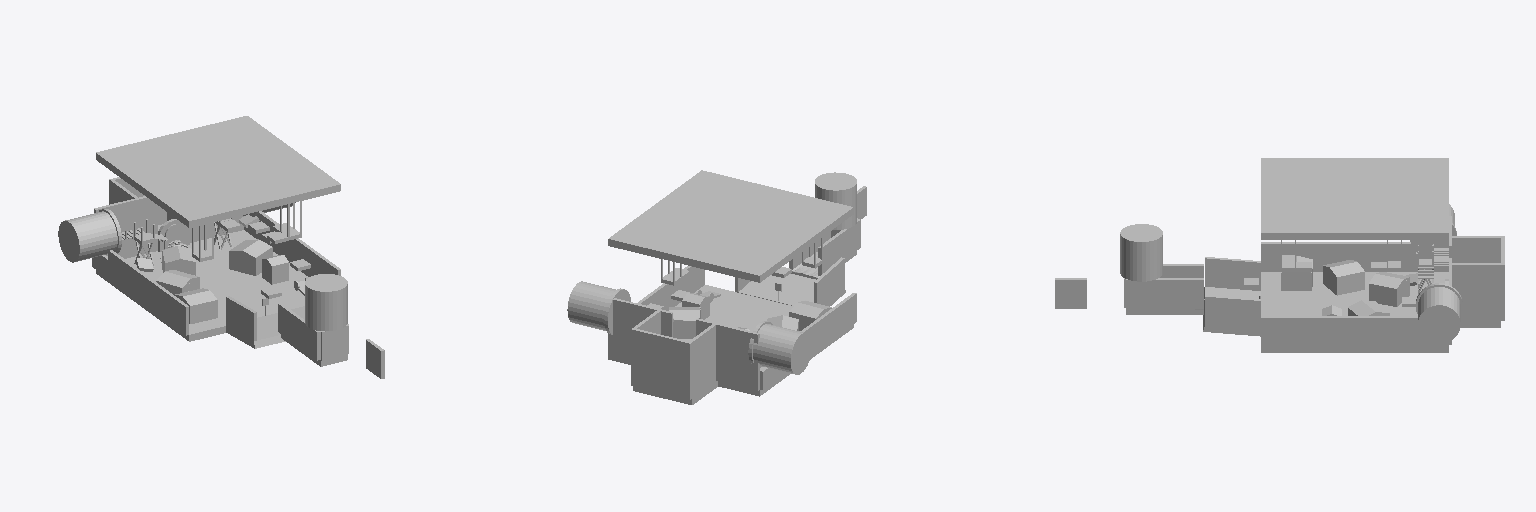
File: Level 1.obj
3 renders of one model, left to right at view 1: azimuth 30°, elevation 25°; view 2: azimuth 150°, elevation 25°; view 3: azimuth 270°, elevation 25°, orthographic.
Visible parts, largest first — view 1: Cube.056, Cube.009, Cube.012, Cylinder, Cylinder.002, Cube.014, Cube.013, Cube.021, Cube.006, Cube.050, Cube.002, Cube.042 (+2 smaller); view 2: Cube.056, Cube.047, Cube.009, Cube.014, Cylinder.002, Cube.040, Cube.006, Cylinder.006, Cube.012, Cube.049, Cylinder, Cube.021 (+2 smaller); view 3: Cube.056, Cube.009, Cube.013, Cube.012, Cube.048, Cube.001, Cylinder, Cylinder.006, Cube.051, Cube.050, Cube.049, Cube.004 (+5 smaller).
Boxes of the visible parts, x1,y1,x2,y2 form: Cube.056: [96, 116, 340, 227]; Cube.009: [96, 230, 307, 341]; Cube.012: [108, 250, 188, 335]; Cylinder: [305, 274, 347, 331]; Cylinder.002: [58, 211, 117, 262]; Cube.014: [94, 196, 157, 258]; Cube.013: [244, 211, 340, 276]; Cube.021: [278, 303, 320, 360]; Cube.006: [226, 306, 304, 348]; Cube.050: [226, 296, 256, 340]; Cube.002: [321, 325, 348, 360]; Cube.042: [229, 247, 272, 275]; Cube.056: [608, 170, 853, 282]; Cube.047: [631, 328, 691, 399]; Cube.009: [608, 285, 853, 396]; Cube.014: [696, 318, 759, 390]; Cylinder.002: [753, 324, 811, 374]; Cube.040: [609, 298, 672, 359]; Cube.006: [737, 274, 845, 306]; Cylinder.006: [567, 281, 615, 330]; Cube.012: [780, 293, 856, 377]; Cube.049: [689, 324, 715, 397]; Cylinder: [815, 172, 856, 229]; Cube.021: [818, 219, 860, 275]; Cube.056: [1261, 158, 1448, 239]; Cube.009: [1261, 272, 1448, 352]; Cube.013: [1261, 316, 1448, 345]; Cube.012: [1261, 242, 1415, 271]; Cube.048: [1452, 263, 1500, 320]; Cube.001: [1126, 278, 1203, 308]; Cylinder: [1120, 224, 1162, 281]; Cylinder.006: [1418, 287, 1460, 343]; Cube.051: [1205, 295, 1260, 328]; Cube.050: [1205, 257, 1260, 290]; Cube.049: [1452, 236, 1500, 262]; Cube.004: [1055, 278, 1086, 308].
Size of the model in its own units: 64.95 by 34 by 115.